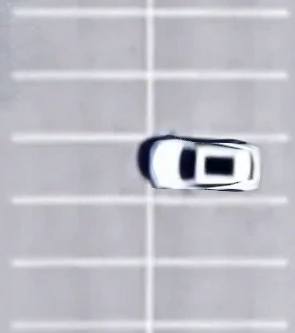Occupied: (150, 137, 288, 201)
Vacant: (13, 9, 150, 75), (14, 136, 150, 202), (12, 74, 150, 139), (149, 11, 285, 76), (11, 263, 151, 326), (150, 262, 287, 326), (13, 201, 150, 264), (148, 75, 287, 137), (150, 202, 289, 263)
